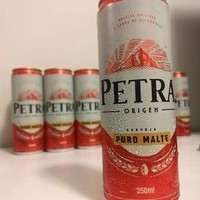petra: (96, 1, 185, 200), (10, 66, 47, 159), (45, 67, 75, 157), (176, 72, 191, 141)
